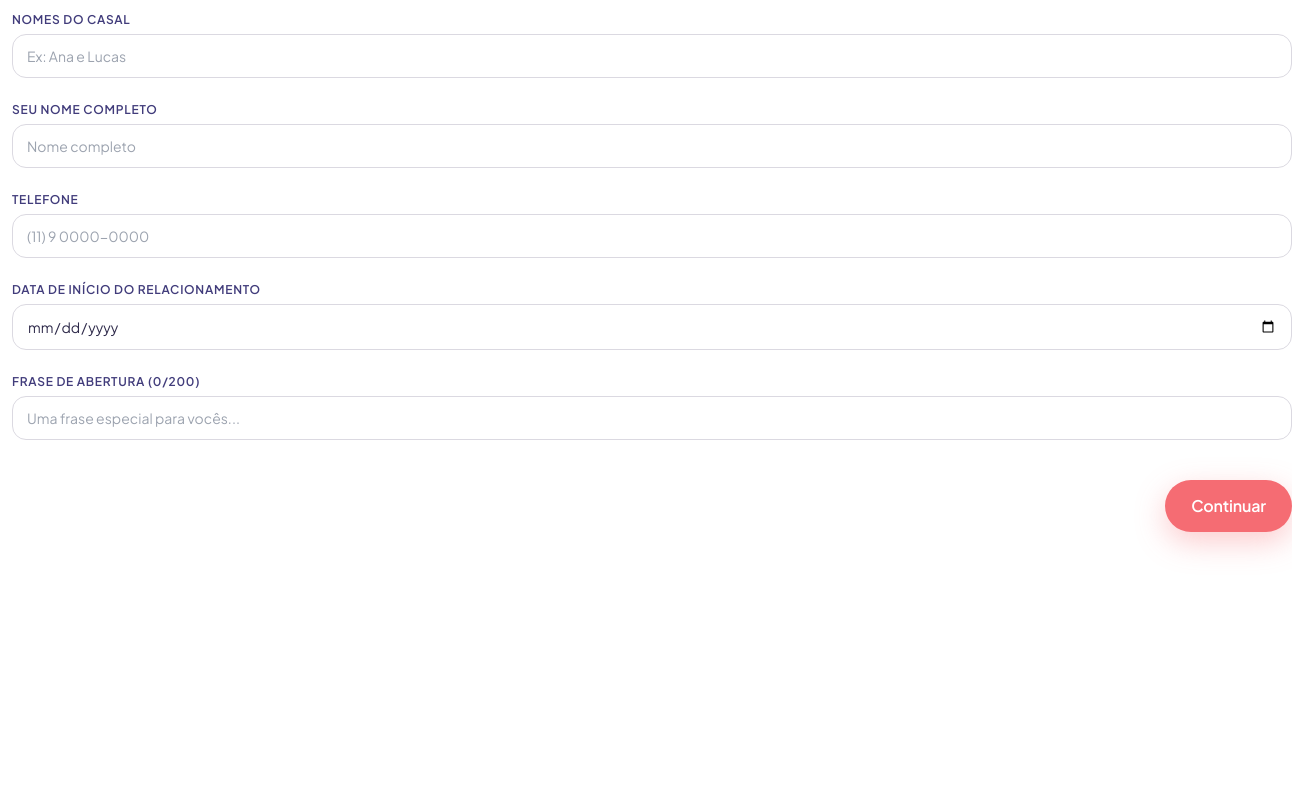
Test: Step1Voces › should show validation error when names is empty on submit
Click the button "Continuar": (1229, 506) [1165,480,1292,532]
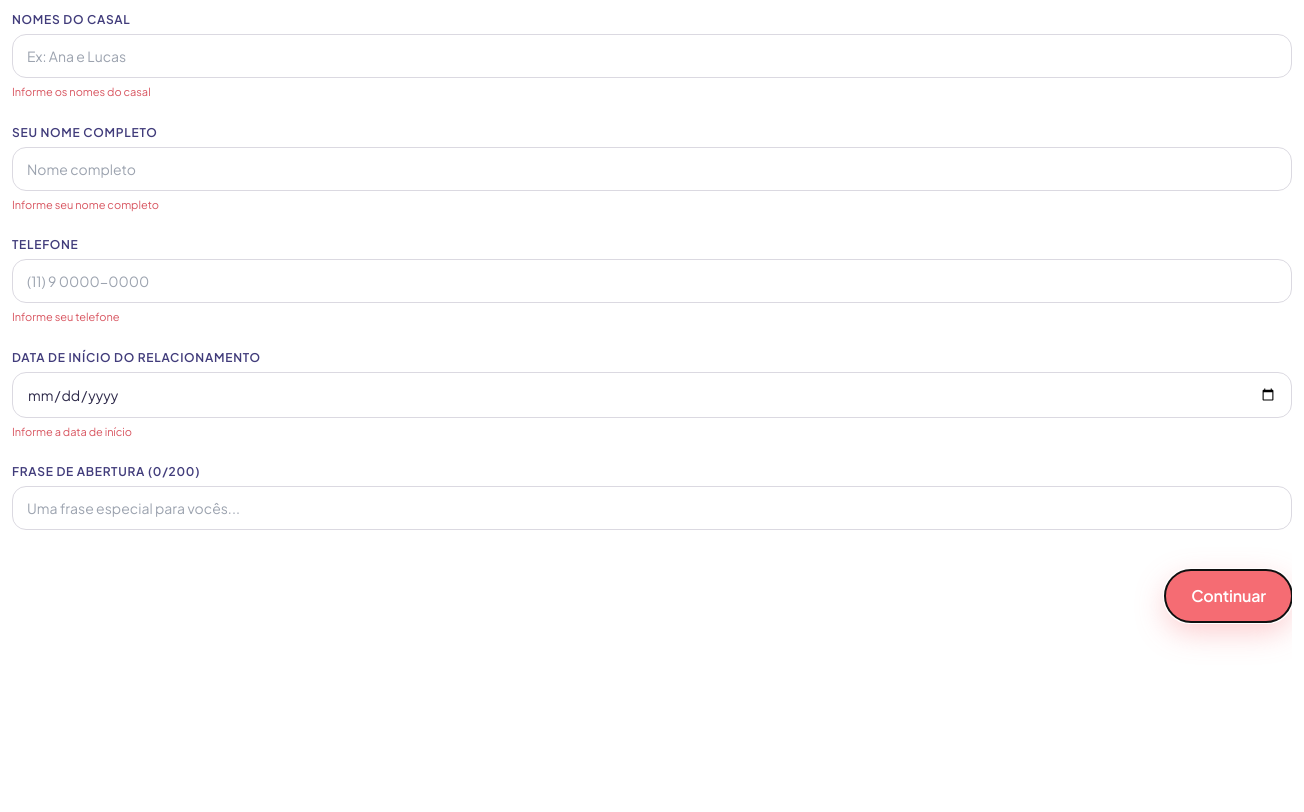
Check: the text "Informe os nomes do casal" is shown, box [12,85,151,98]
